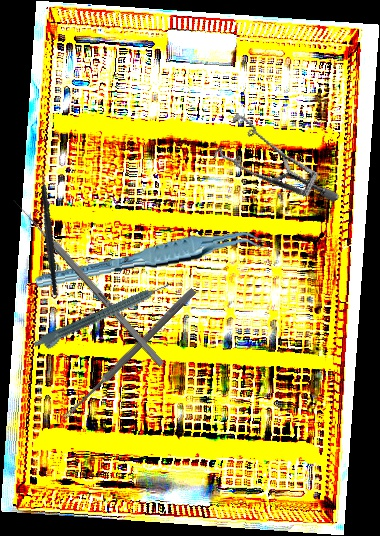Chopper: (3, 163, 88, 296)
Handpiece: (31, 279, 174, 356)
Pusher: (10, 196, 166, 368)
Speculum: (199, 88, 342, 242)
Surgical Spoon: (61, 286, 197, 423)
Tissue Forceps: (32, 228, 269, 290)
